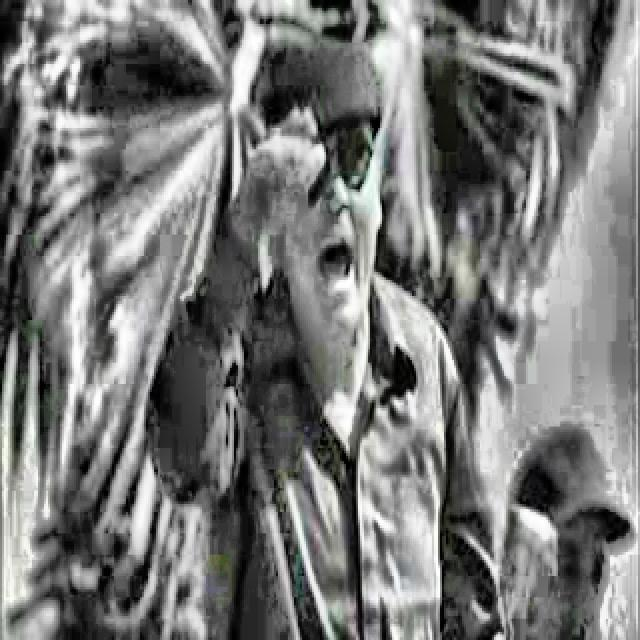T: (150, 36, 504, 639)
